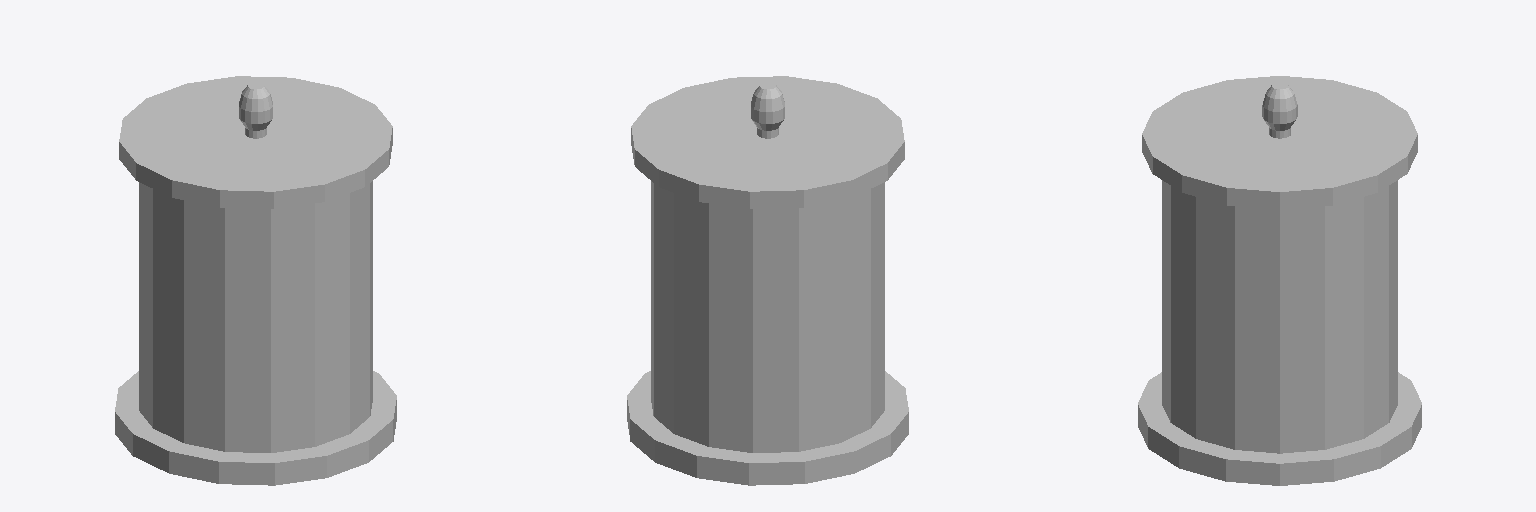
File: Pote_da_Cozinha.obj
3 renders of one model, left to right at view 1: azimuth 30°, elevation 25°; view 2: azimuth 150°, elevation 25°; view 3: azimuth 270°, elevation 25°, orthographic.
Visible parts, largest first — view 1: Cozinha_Potes:potes; view 2: Cozinha_Potes:potes; view 3: Cozinha_Potes:potes.
Boxes of the visible parts, <box> form: Cozinha_Potes:potes: <box>115,76,396,485</box>; Cozinha_Potes:potes: <box>627,76,908,485</box>; Cozinha_Potes:potes: <box>1138,76,1421,485</box>.
Bounding box in the file's own units: 0.2687 × 0.3542 × 0.2687.